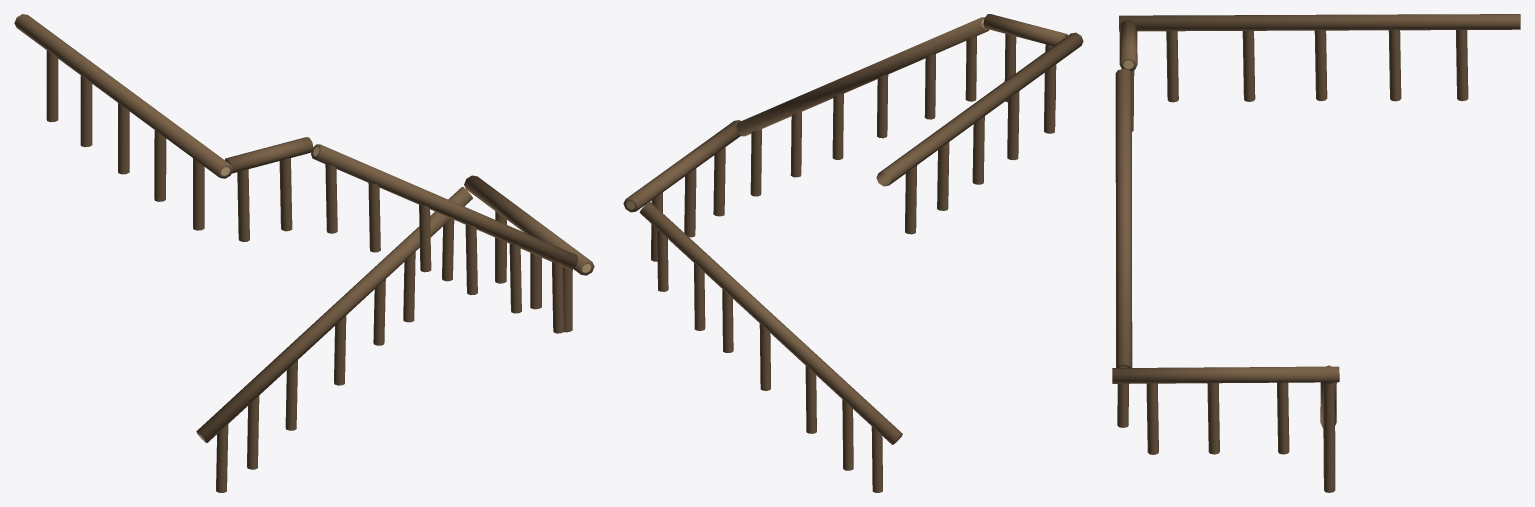
File: rpgpp_ag_stairs_interior_01d_4m_handrail_01.fbx
The picture shows the model from 3 angles, left to right: view 1: azimuth 30°, elevation 25°; view 2: azimuth 150°, elevation 25°; view 3: azimuth 270°, elevation 25°; orthographic projection. The views are drawn at different scales.
Visible parts, largest first — view 1: rpgpp_ag_stairs_interior_01d_4m_handrail_01; view 2: rpgpp_ag_stairs_interior_01d_4m_handrail_01; view 3: rpgpp_ag_stairs_interior_01d_4m_handrail_01.
Boxes of the visible parts, bbox=[...] form: rpgpp_ag_stairs_interior_01d_4m_handrail_01: bbox=[14, 14, 594, 492]; rpgpp_ag_stairs_interior_01d_4m_handrail_01: bbox=[623, 14, 1083, 492]; rpgpp_ag_stairs_interior_01d_4m_handrail_01: bbox=[1112, 14, 1520, 492].
Size of the model in its own units: 4.3 by 4.74 by 4.12.
